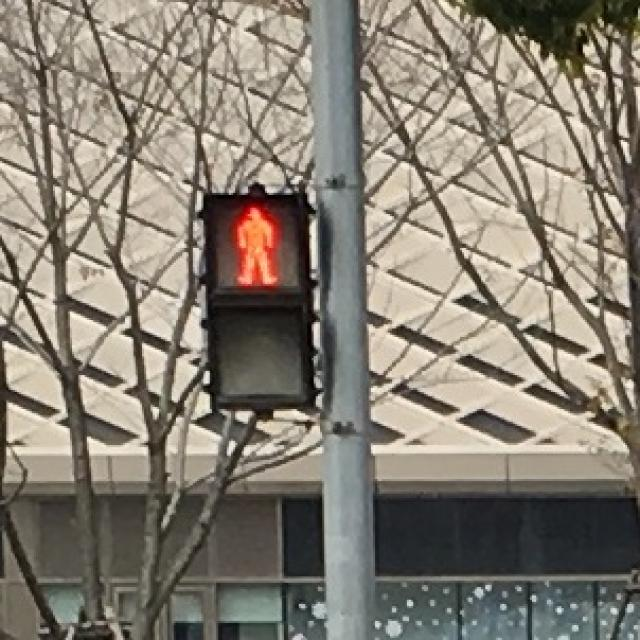red_light: (210, 195, 294, 292)
